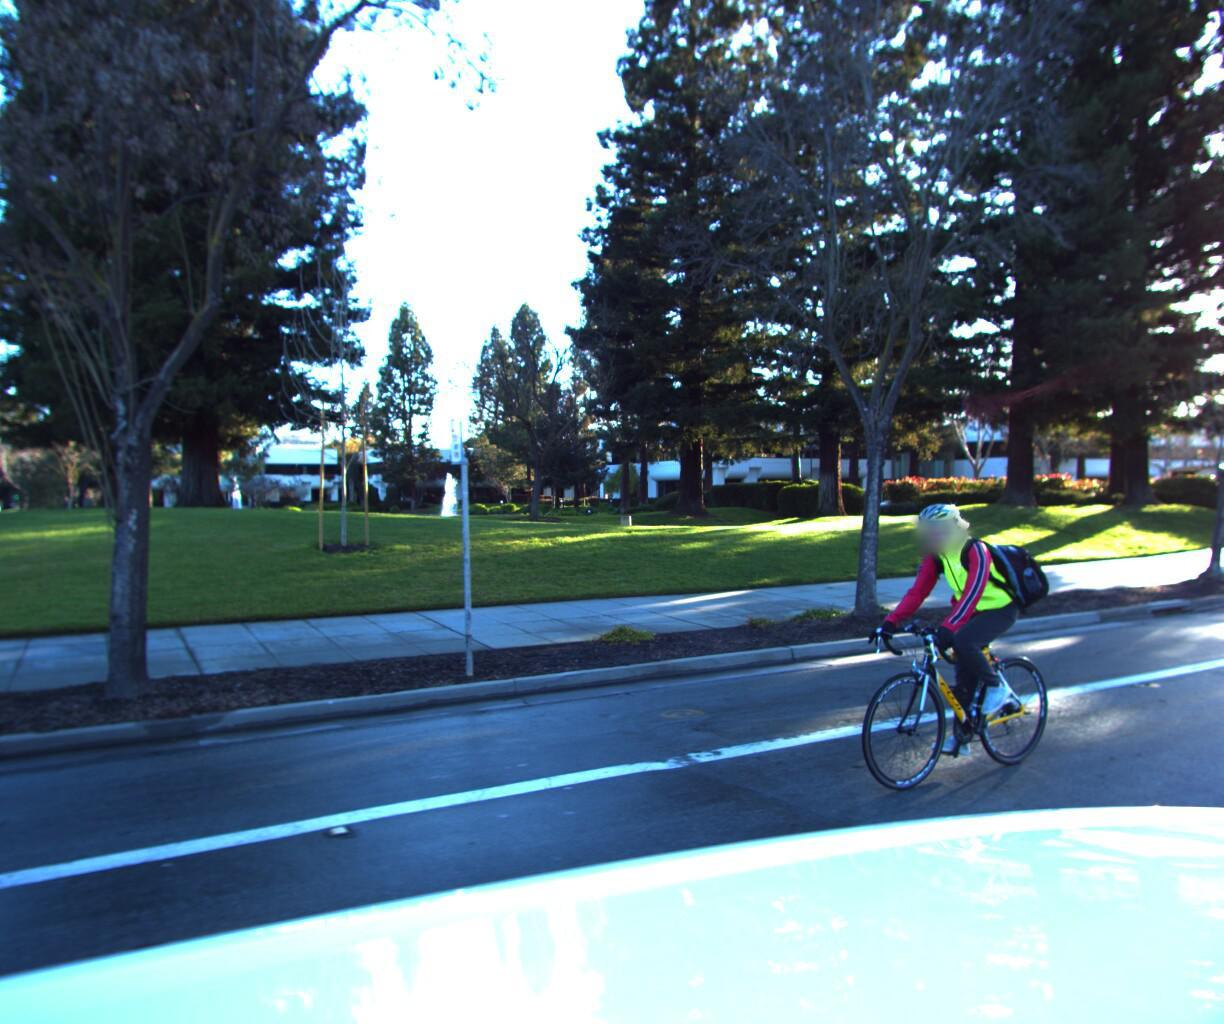bicycle: (812, 471, 1108, 817)
